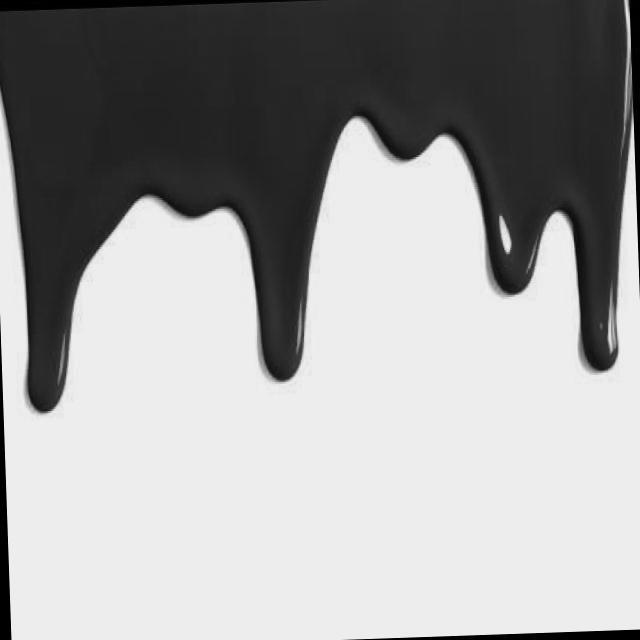paint drips: (224, 21, 387, 408), (477, 66, 632, 407), (79, 66, 268, 327), (354, 41, 535, 308), (0, 35, 106, 441)
